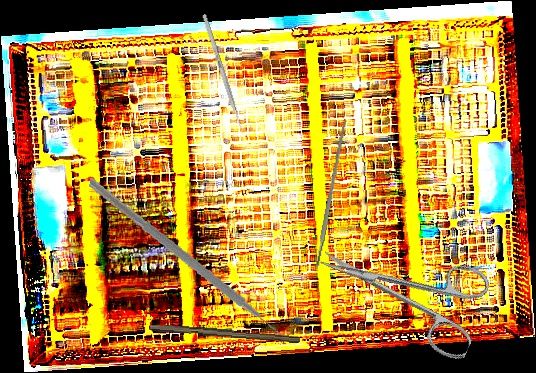Chopper: (71, 177, 299, 358)
Iris Scissors: (305, 211, 499, 364)
Pusher: (201, 13, 247, 140)
Scalpel Handle: (313, 119, 348, 269), (148, 321, 301, 344)
